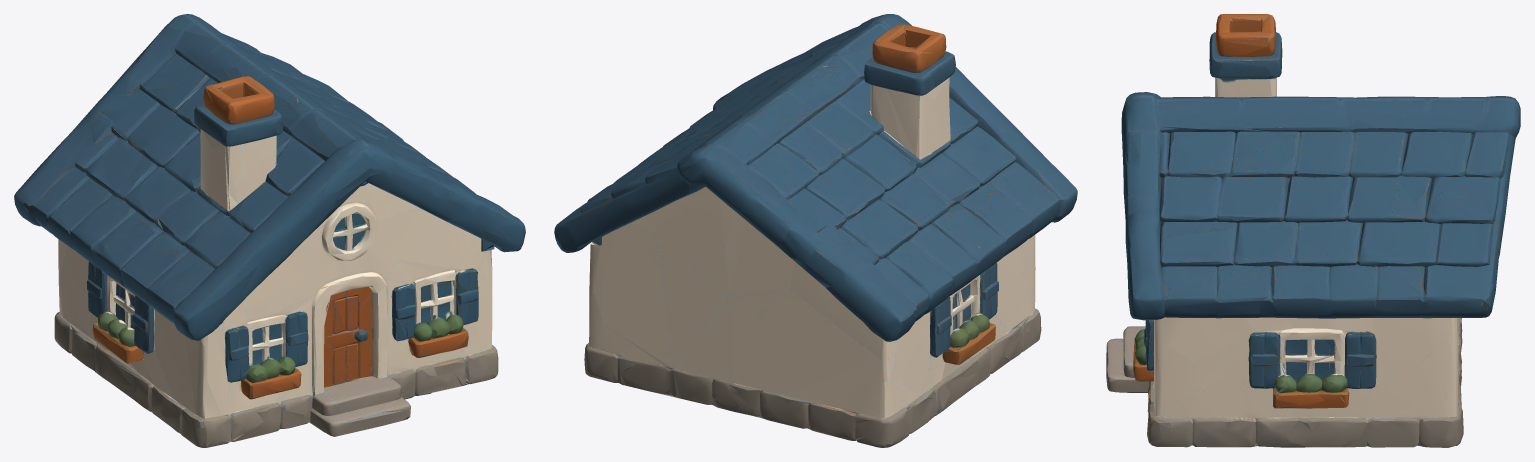
The model's file is model-village-cottage-267afb73e451.glb.
3 renders of one model, left to right at view 1: azimuth 30°, elevation 25°; view 2: azimuth 150°, elevation 25°; view 3: azimuth 270°, elevation 25°, orthographic. The views are drawn at different scales.
Parts seen in each view (by area): view 1: Mesh_0; view 2: Mesh_0; view 3: Mesh_0.
Part boxes in pixels (<box>): Mesh_0: <box>14,14,525,447</box>; Mesh_0: <box>554,14,1077,447</box>; Mesh_0: <box>1106,14,1520,447</box>.
Size of the model in its own units: 2.97 by 2.53 by 3.
1 material, 1 textured.
